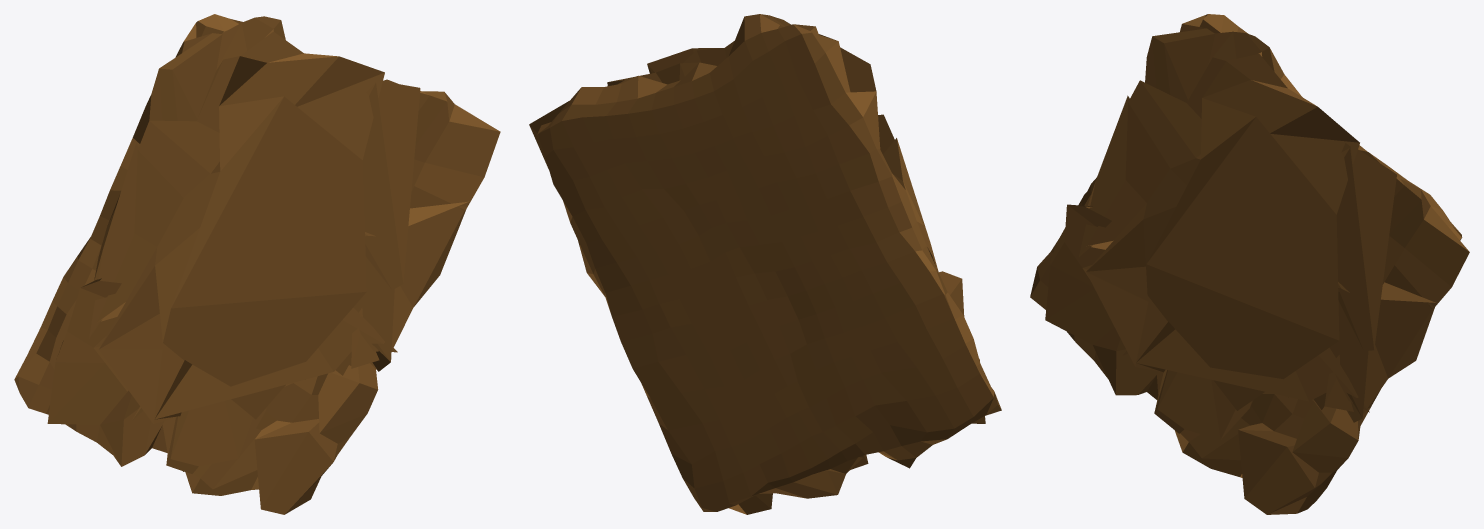
The model's file is ecudo gigante.fbx.
The picture shows the model from 3 angles, left to right: view 1: azimuth 30°, elevation 25°; view 2: azimuth 150°, elevation 25°; view 3: azimuth 330°, elevation 25°; orthographic projection. The views are drawn at different scales.
Parts seen in each view (by area): view 1: Cube; view 2: Cube; view 3: Cube.
Part boxes in pixels (<box>): Cube: <box>14,14,500,514</box>; Cube: <box>529,14,1001,514</box>; Cube: <box>1030,14,1469,514</box>.
Bounding box in the file's own units: 4696 × 4811 × 411.
